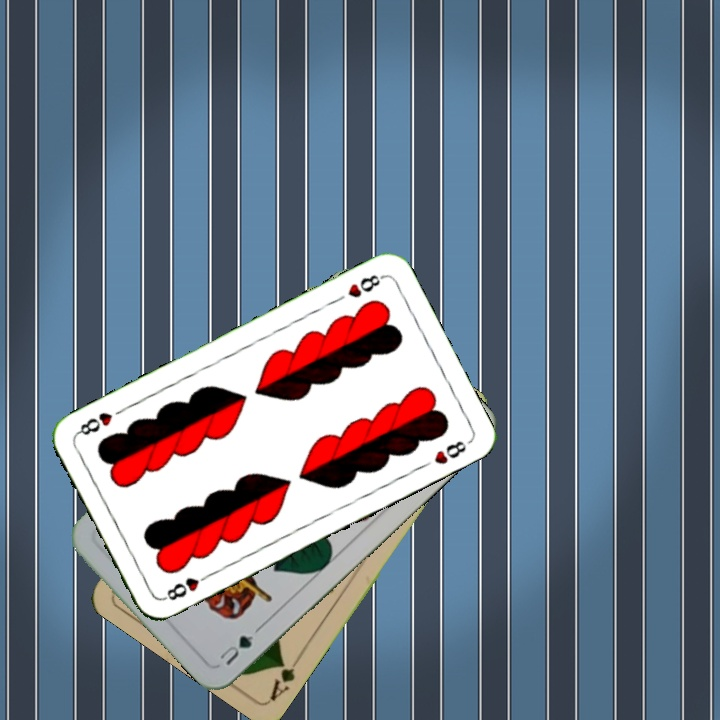GA: (266, 650, 305, 704)
GU: (215, 631, 256, 668)
H8: (159, 569, 214, 603), (343, 270, 386, 301)
